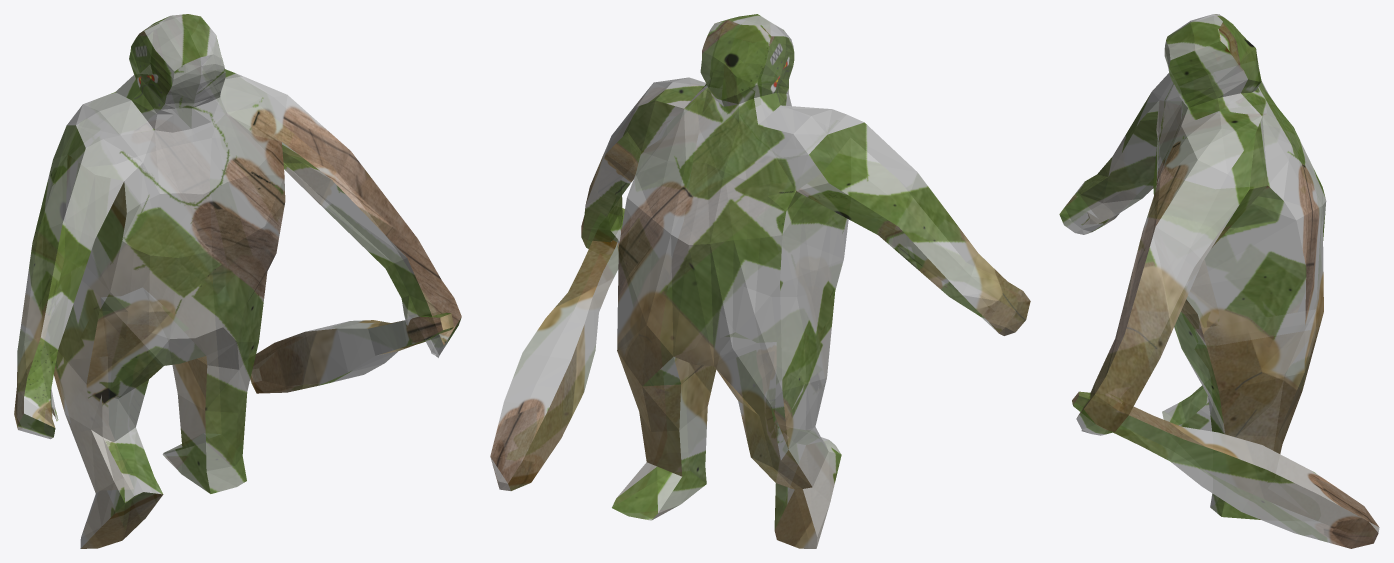
The model's file is Enemigo27.obj.
The picture shows the model from 3 angles, left to right: view 1: azimuth 30°, elevation 25°; view 2: azimuth 150°, elevation 25°; view 3: azimuth 270°, elevation 25°; orthographic projection. The views are drawn at different scales.
Visible parts, largest first — view 1: Cube; view 2: Cube; view 3: Cube.
Part boxes in pixels (x1,y1,x2,y2): Cube: [14, 14, 461, 548]; Cube: [490, 14, 1030, 548]; Cube: [1059, 14, 1379, 548].
Bounding box in the file's own units: 2.56 × 2.87 × 1.67.
